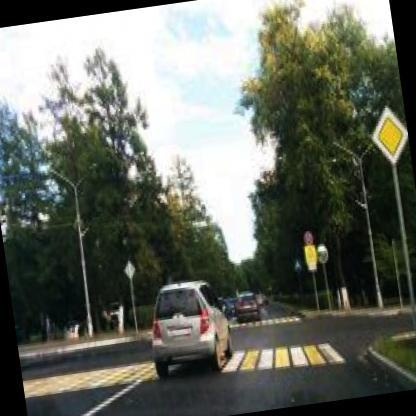road_sign: (373, 106, 408, 163), (303, 242, 314, 263), (303, 228, 314, 247)
